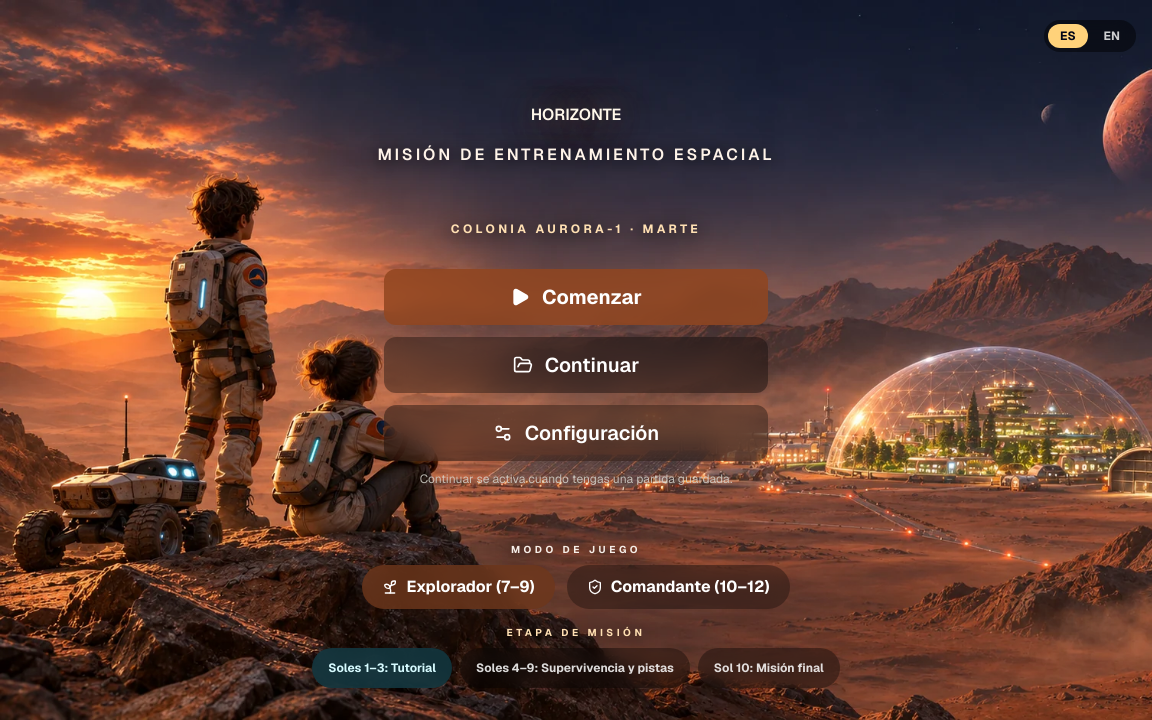
Test case: menú principal › muestra los atajos reales sin opciones de música
This screenshot has width=1152, height=720.
Click the button "Configuración" at (576, 433), box [384,405,768,461]
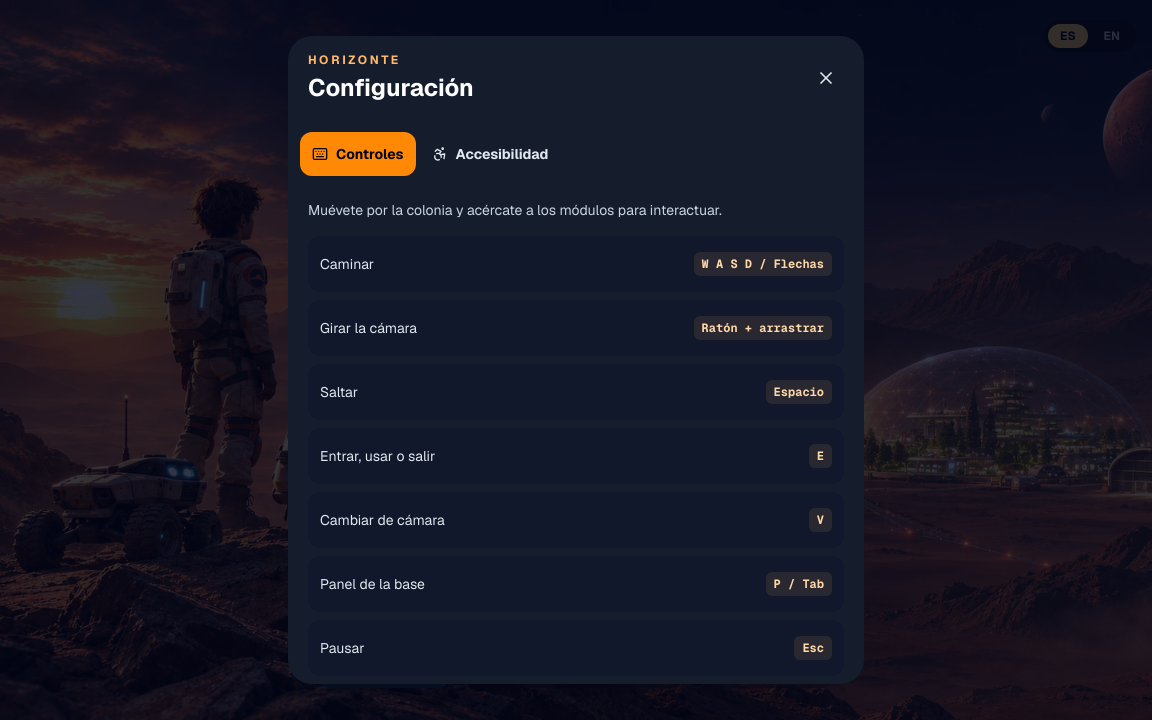
Now the text "Entrar, usar o salir" is shown, box [320,446,435,466]
Now the text "P / Tab" is shown, box [766,572,832,596]
